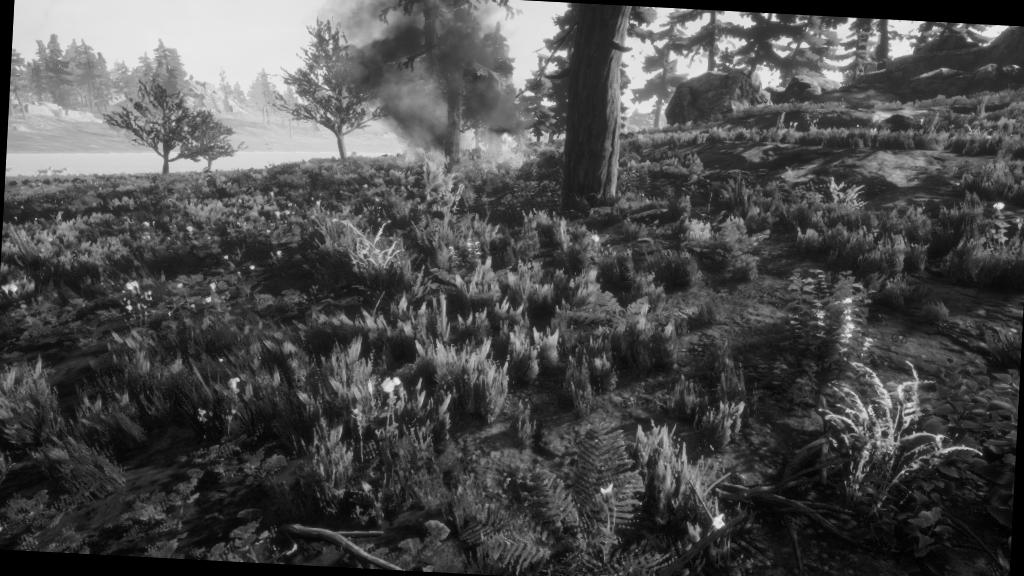Fire: (386, 114, 478, 180), (468, 100, 542, 180)
smoke: (330, 4, 524, 150)
